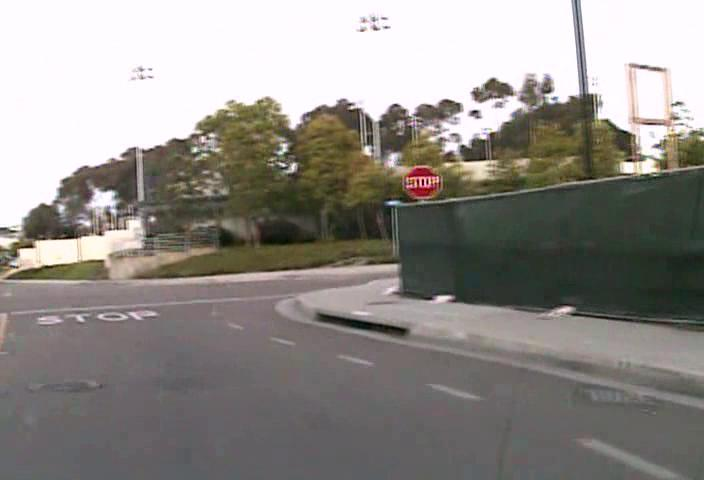stop: (403, 165, 441, 200)
